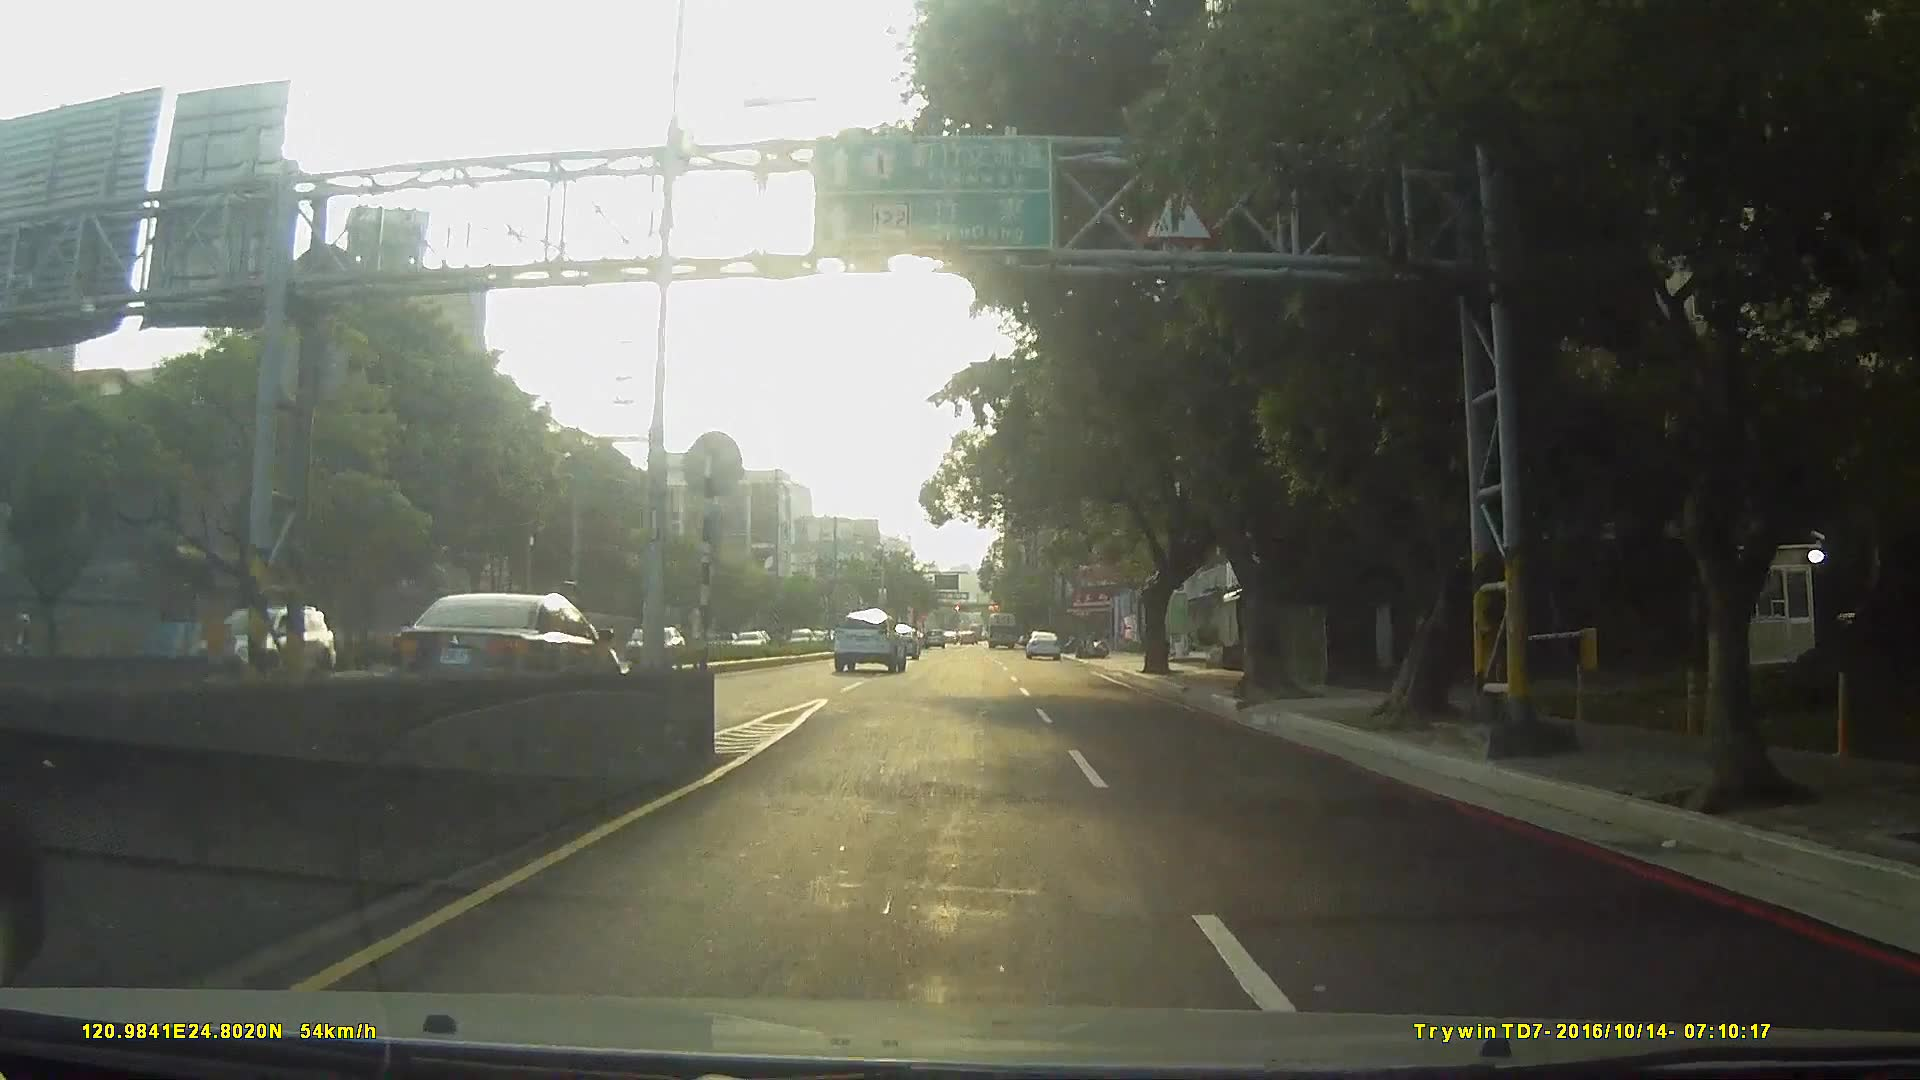vehicle: (386, 589, 622, 709), (831, 608, 909, 674), (985, 611, 1017, 651), (1023, 629, 1062, 659), (886, 626, 920, 659)
